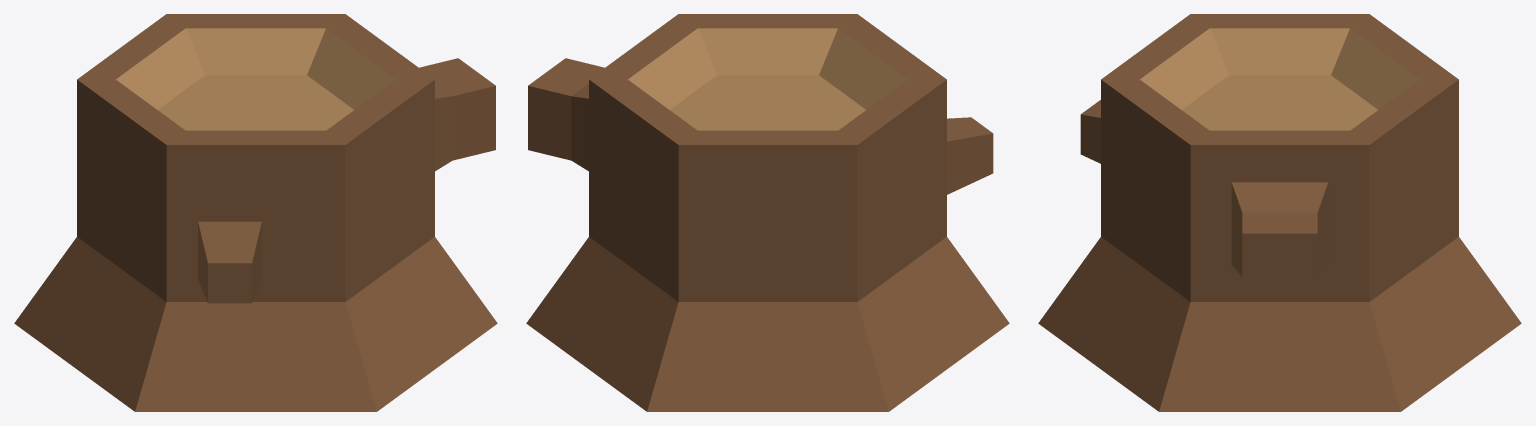
File: stump.glb
3 views of the same model, side by side, from view 1: azimuth 30°, elevation 25°; view 2: azimuth 150°, elevation 25°; view 3: azimuth 270°, elevation 25° (orthographic).
Parts seen in each view (by area): view 1: stump; view 2: stump; view 3: stump.
Part boxes in pixels (bbox=[...]): stump: bbox=[14, 14, 497, 411]; stump: bbox=[526, 14, 1009, 411]; stump: bbox=[1038, 14, 1521, 411].
Size of the model in its own units: 1.24 by 0.72 by 1.29.
